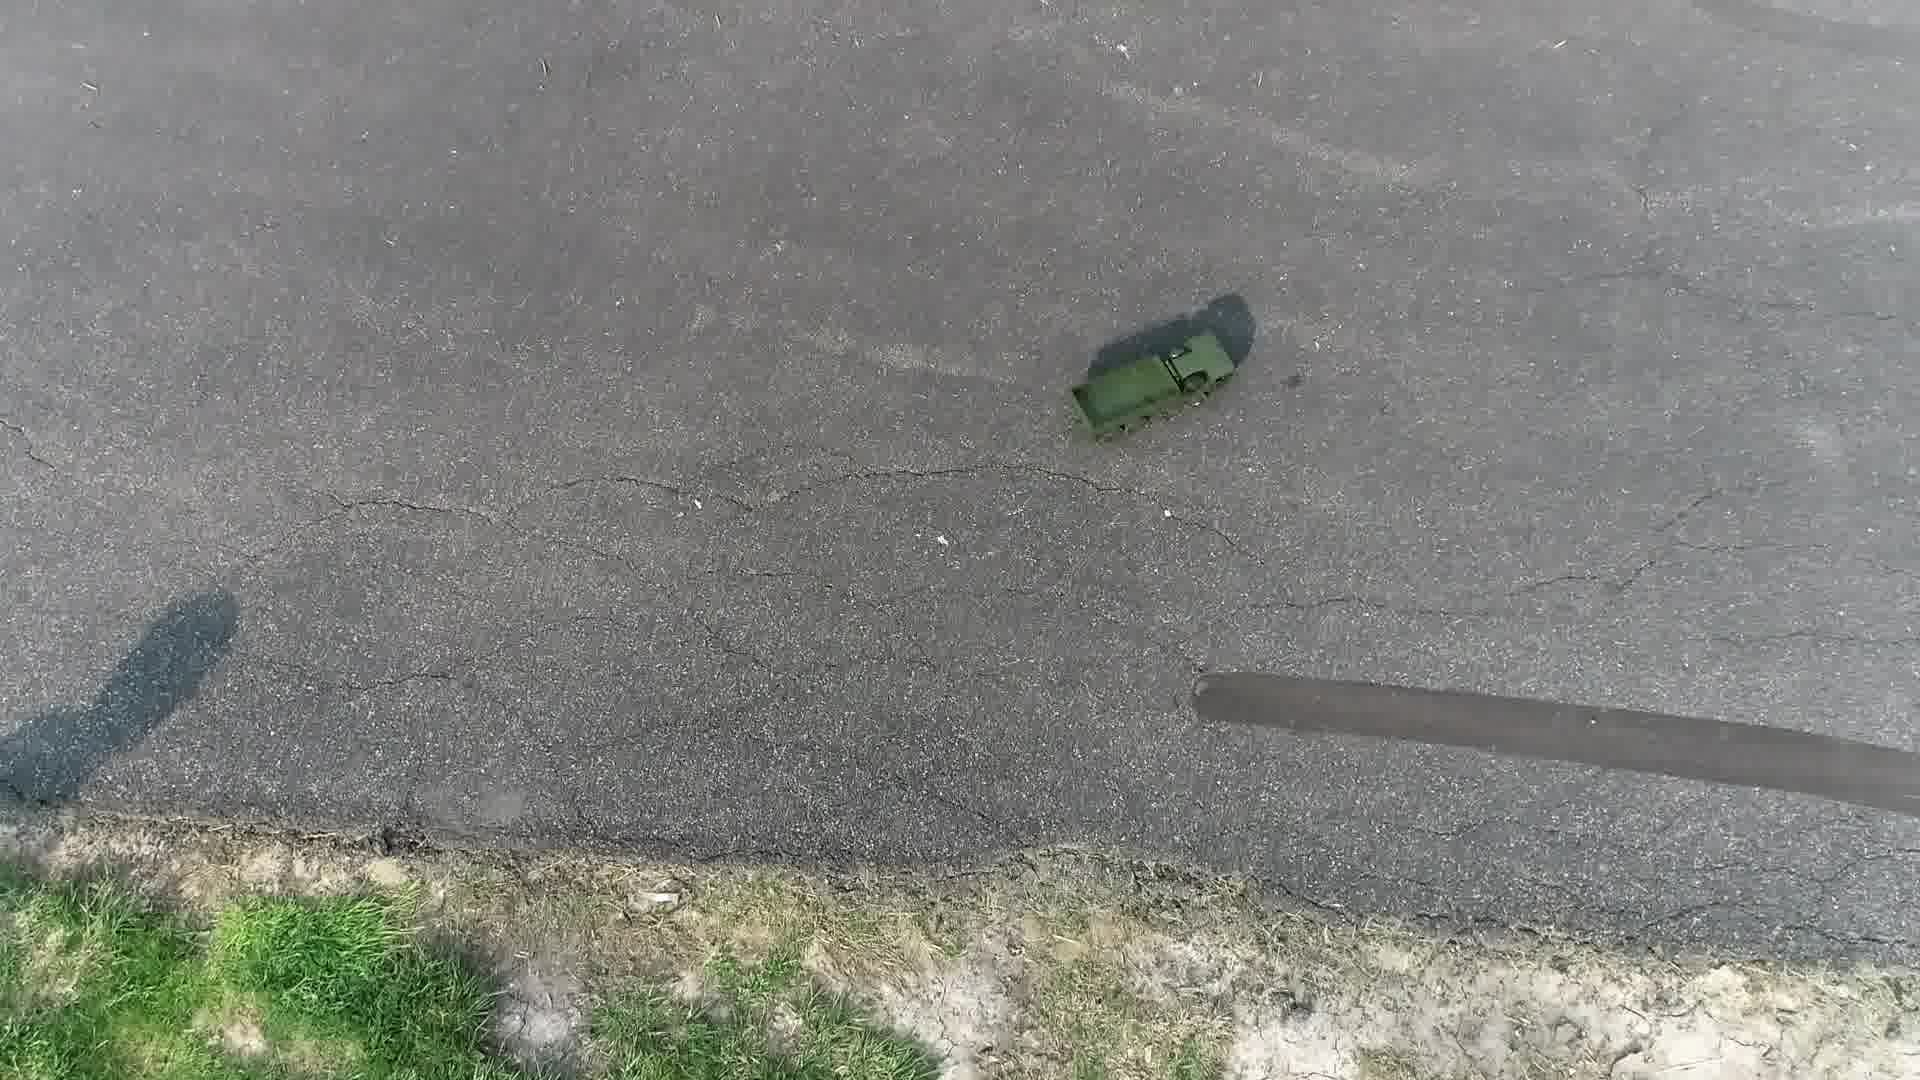transporter9: (1058, 316, 1246, 446)
